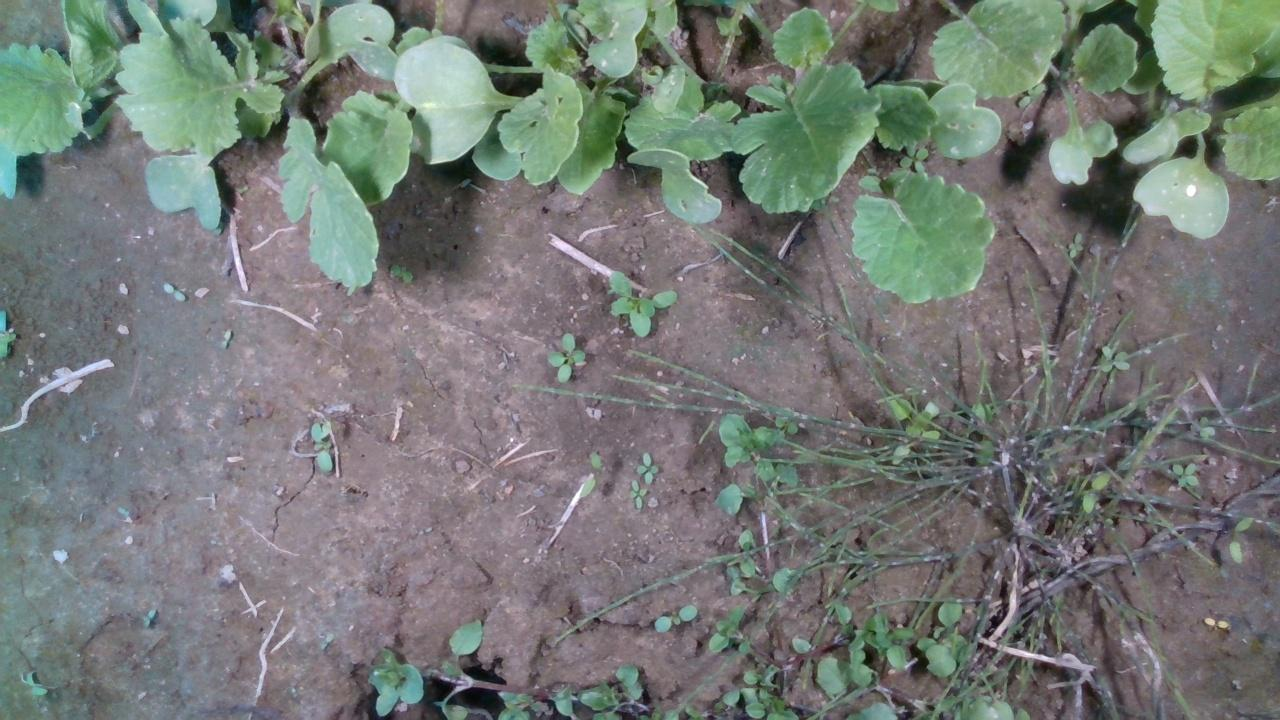weed: (545, 331, 587, 381), (652, 603, 698, 633), (577, 448, 599, 498), (637, 449, 658, 483), (387, 263, 413, 282), (1065, 230, 1083, 257), (161, 281, 184, 301), (1202, 614, 1229, 629), (219, 327, 231, 349)
